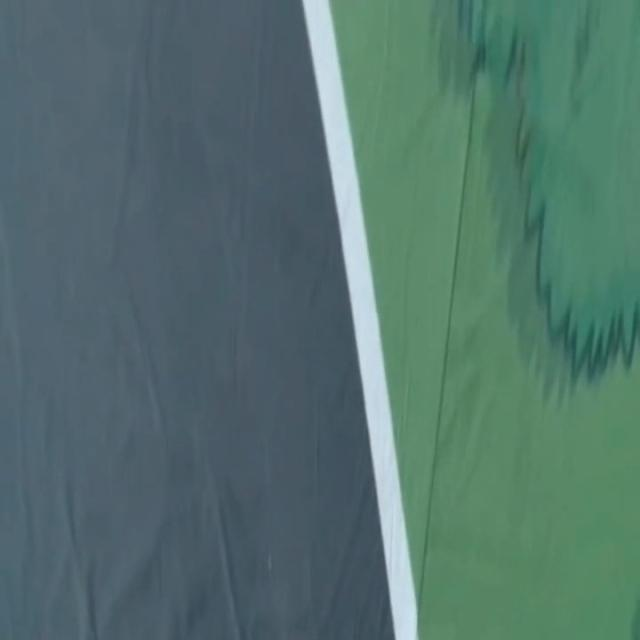right: (302, 0, 417, 639)
